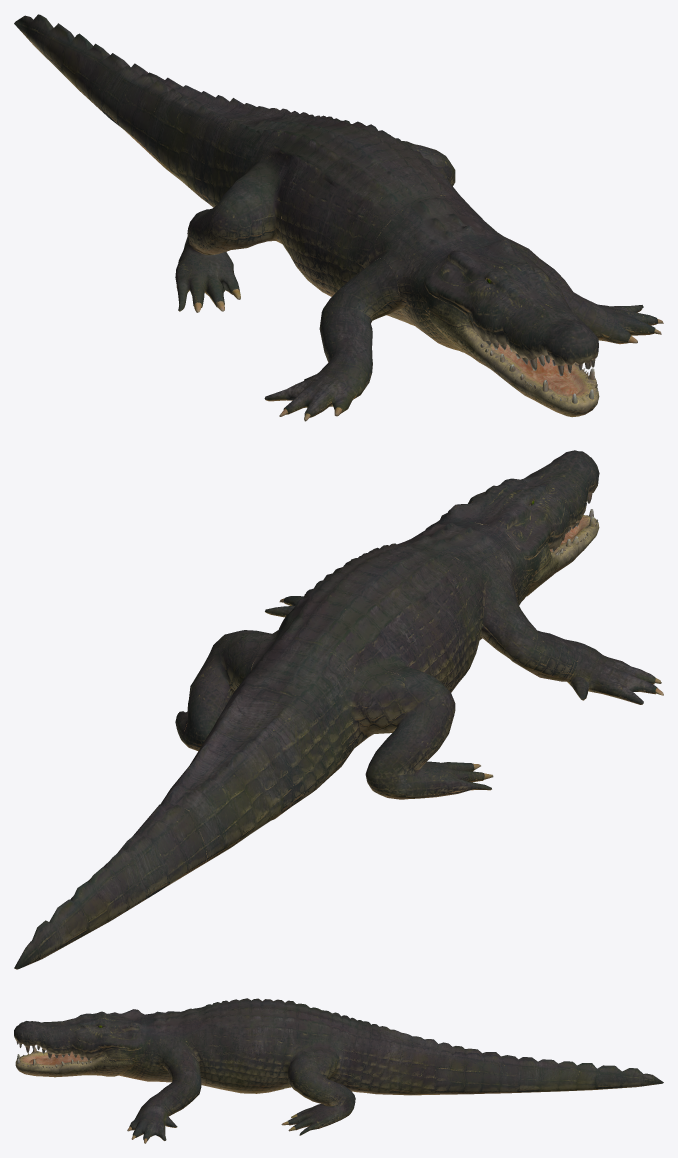
Rendered from crocodile_b.glb.
The picture shows the model from 3 angles, top to bottom: view 1: azimuth 30°, elevation 25°; view 2: azimuth 150°, elevation 25°; view 3: azimuth 270°, elevation 25°; orthographic projection. The views are drawn at different scales.
Parts seen in each view (by area): view 1: Crocodile_Crocodile_0; view 2: Crocodile_Crocodile_0; view 3: Crocodile_Crocodile_0.
Part boxes in pixels (box(x1,y1,x2,y2)): Crocodile_Crocodile_0: box(14, 14, 663, 421); Crocodile_Crocodile_0: box(14, 450, 663, 969); Crocodile_Crocodile_0: box(14, 998, 663, 1143).
Bounding box in the file's own units: 1.63 × 0.6345 × 4.2.
1 material, 1 textured.
